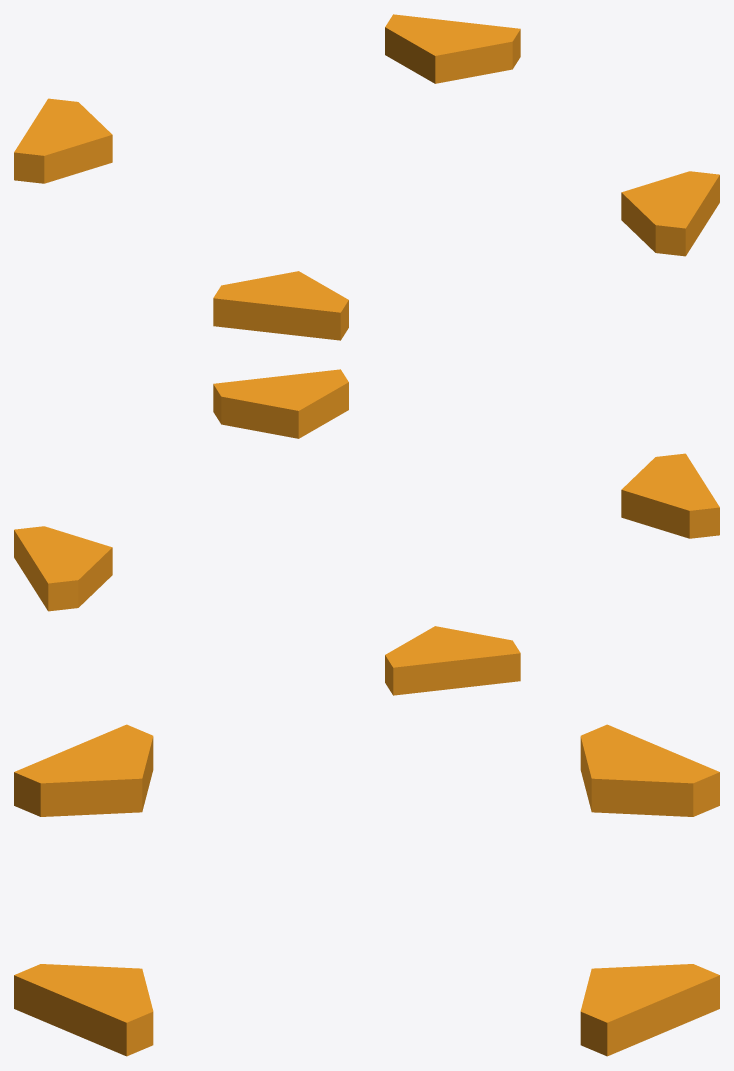
The model's file is SM_Icon_SelectionRing_06.fbx.
3 renders of one model, top to bottom at view 1: azimuth 30°, elevation 25°; view 2: azimuth 150°, elevation 25°; view 3: azimuth 270°, elevation 25°, orthographic. The views are drawn at different scales.
Visible parts, largest first — view 1: SM_Icon_SelectionRing_06; view 2: SM_Icon_SelectionRing_06; view 3: SM_Icon_SelectionRing_06.
Boxes of the visible parts, bbox=[...] form: SM_Icon_SelectionRing_06: bbox=[14, 14, 719, 340]; SM_Icon_SelectionRing_06: bbox=[14, 369, 719, 695]; SM_Icon_SelectionRing_06: bbox=[14, 724, 719, 1056].
Size of the model in its own units: 69.78 by 3.67 by 69.78.
